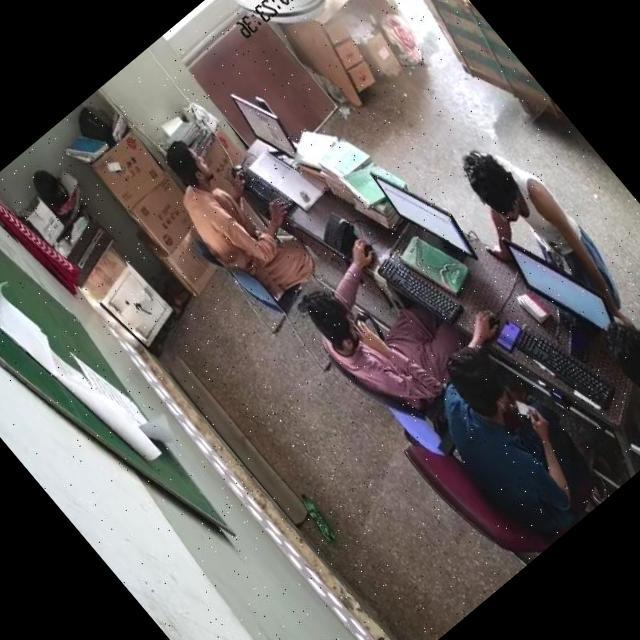person: (400, 330, 592, 532), (146, 126, 326, 323), (452, 128, 626, 317), (300, 255, 455, 414), (585, 290, 640, 443)
